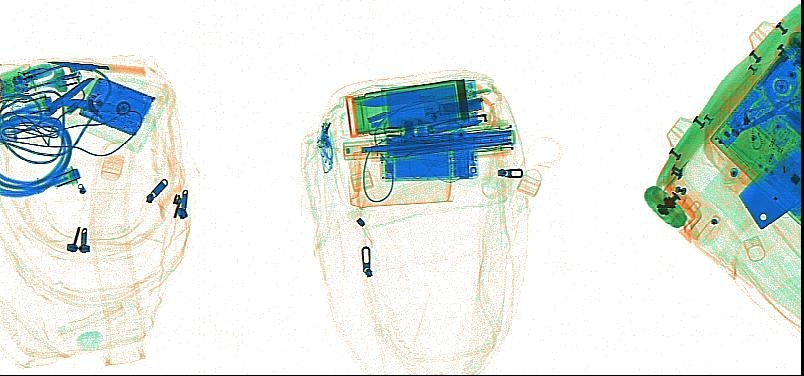knife: (737, 146, 799, 230), (358, 83, 482, 105), (45, 76, 94, 116), (46, 60, 145, 76), (425, 111, 488, 133)
scissors: (735, 78, 798, 132)
